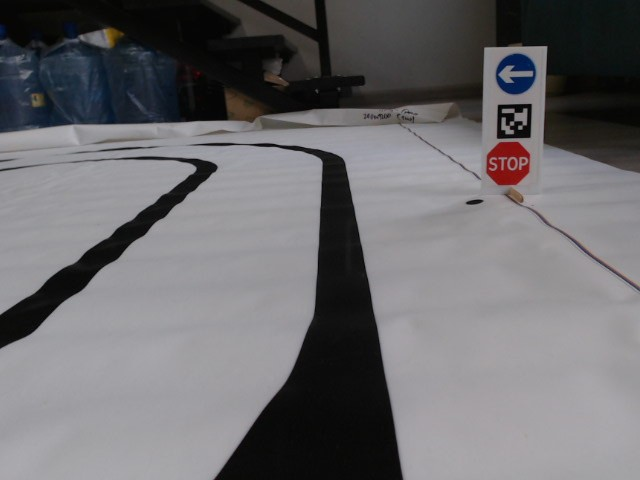Stop: (485, 140, 532, 186)
